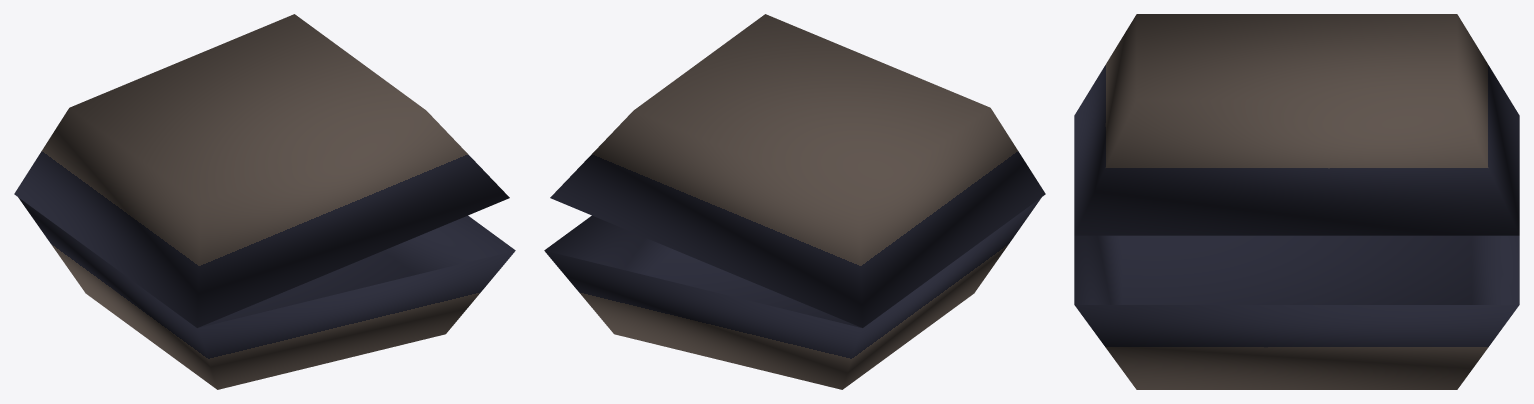
File: mdlBurgerBox.fbx
The picture shows the model from 3 angles, left to right: view 1: azimuth 30°, elevation 25°; view 2: azimuth 150°, elevation 25°; view 3: azimuth 270°, elevation 25°; orthographic projection. The views are drawn at different scales.
Parts seen in each view (by area): view 1: Cube; view 2: Cube; view 3: Cube.
Boxes of the visible parts, <box> form: Cube: <box>14,14,515,389</box>; Cube: <box>544,14,1045,389</box>; Cube: <box>1074,14,1519,389</box>.
Bounding box in the file's own units: 2.01 × 1.38 × 2.
